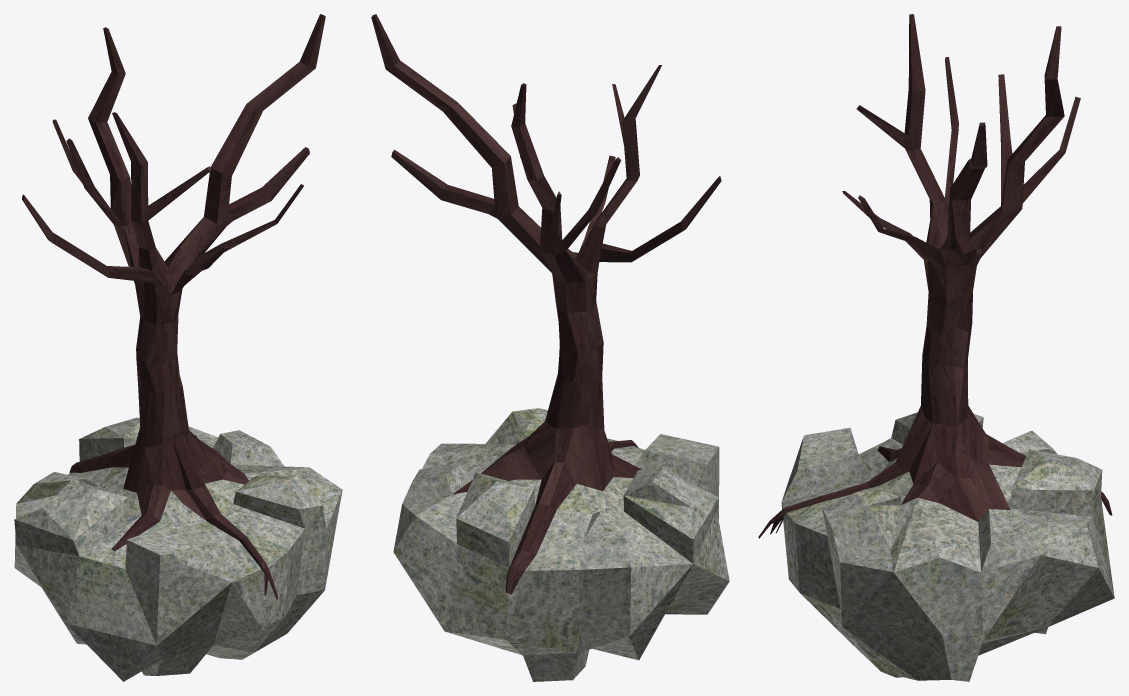
Rendered from uploads_files_4993400_tree.fbx.
3 views of the same model, side by side, from view 1: azimuth 30°, elevation 25°; view 2: azimuth 150°, elevation 25°; view 3: azimuth 270°, elevation 25° (orthographic). The views are drawn at different scales.
Visible parts, largest first — view 1: Cube; view 2: Cube; view 3: Cube.
Part boxes in pixels (x1,y1,x2,y2): Cube: (14, 14, 342, 681); Cube: (371, 14, 729, 681); Cube: (758, 14, 1114, 681).
Bounding box in the file's own units: 346 × 610 × 319.
Materials: 1 (1 with a texture image).
